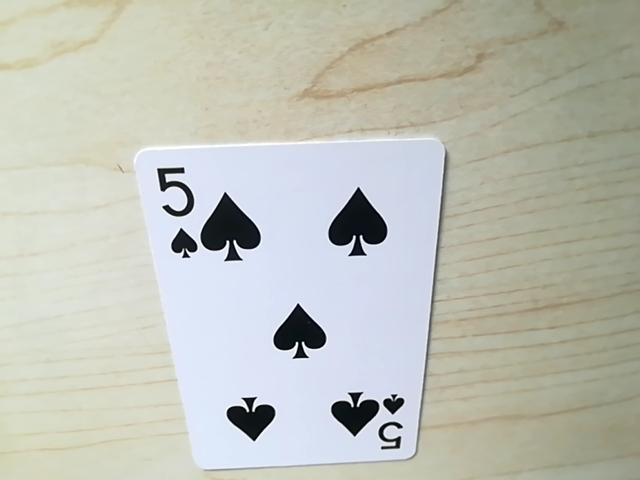ht 5: (150, 161, 205, 265), (368, 392, 412, 458)
